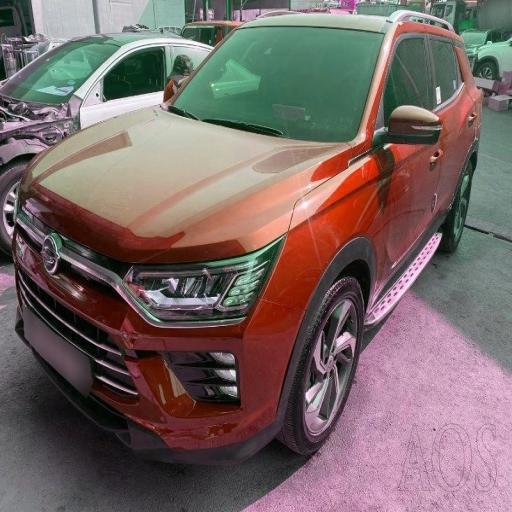scratch: (111, 245, 287, 479)
